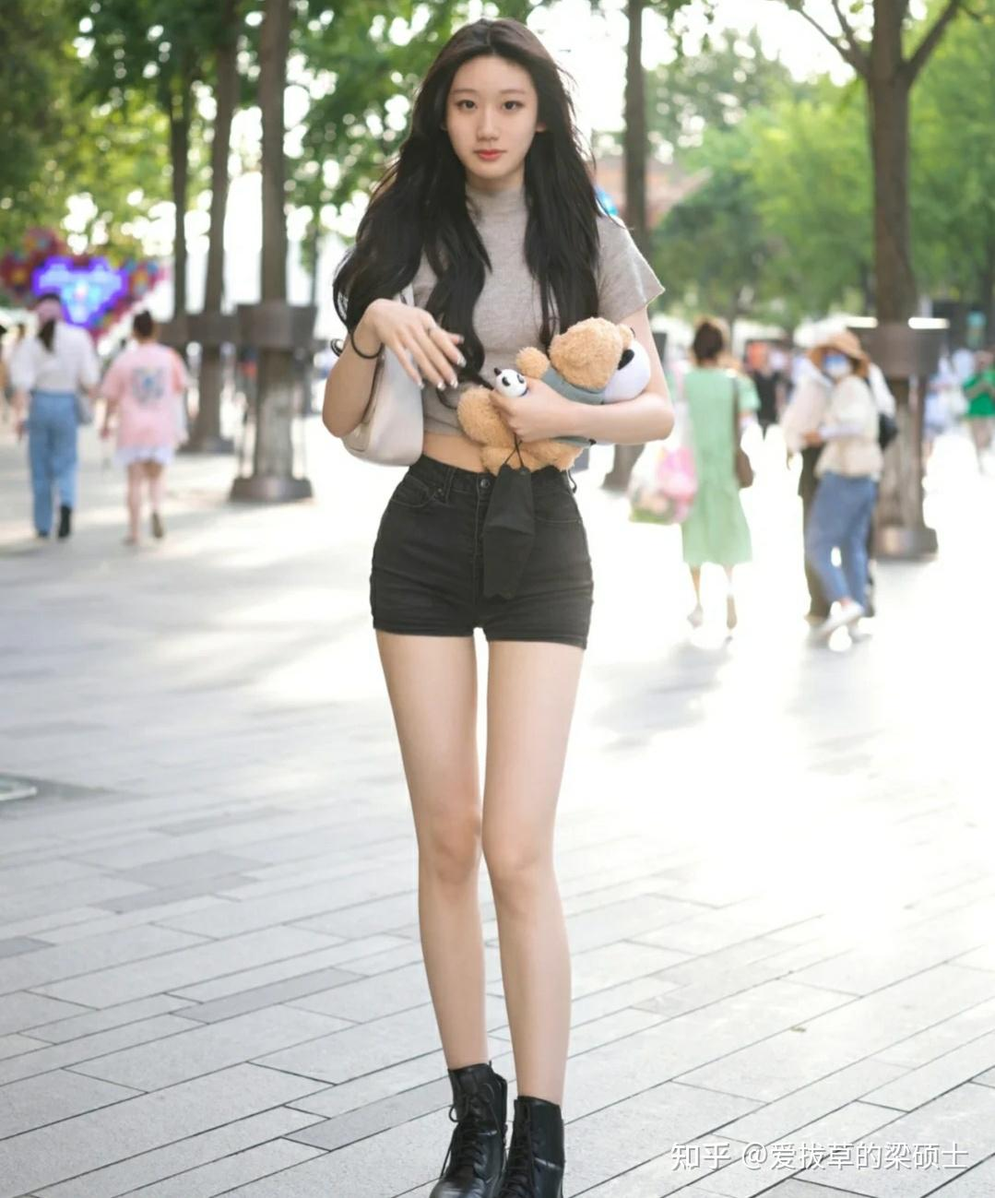up: (304, 10, 674, 1193)
